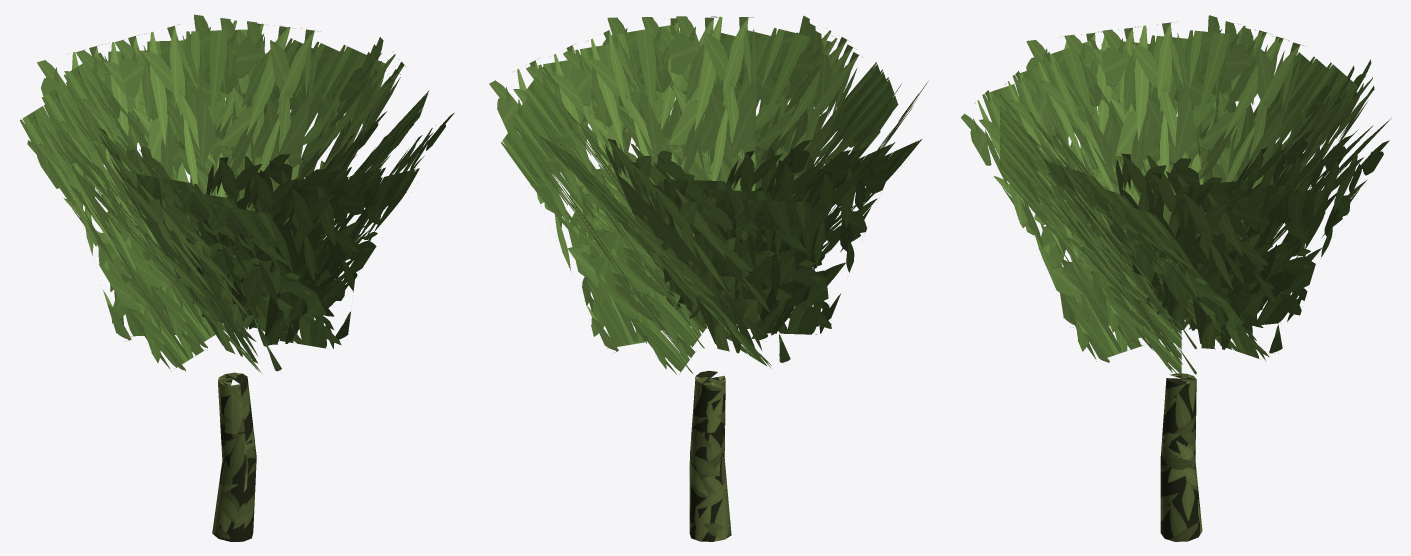
The model's file is nature.tree.banana.glb.
3 renders of one model, left to right at view 1: azimuth 30°, elevation 25°; view 2: azimuth 150°, elevation 25°; view 3: azimuth 270°, elevation 25°, orthographic.
Parts seen in each view (by area): view 1: nature.tree.banana; view 2: nature.tree.banana; view 3: nature.tree.banana.
Boxes of the visible parts, left/top/right/bottom form: nature.tree.banana: left=20, top=14, right=454, bottom=541; nature.tree.banana: left=489, top=15, right=928, bottom=541; nature.tree.banana: left=961, top=15, right=1391, bottom=541.
Bounding box in the file's own units: 3.76 × 4.19 × 3.75.
3 materials, 3 textured.
